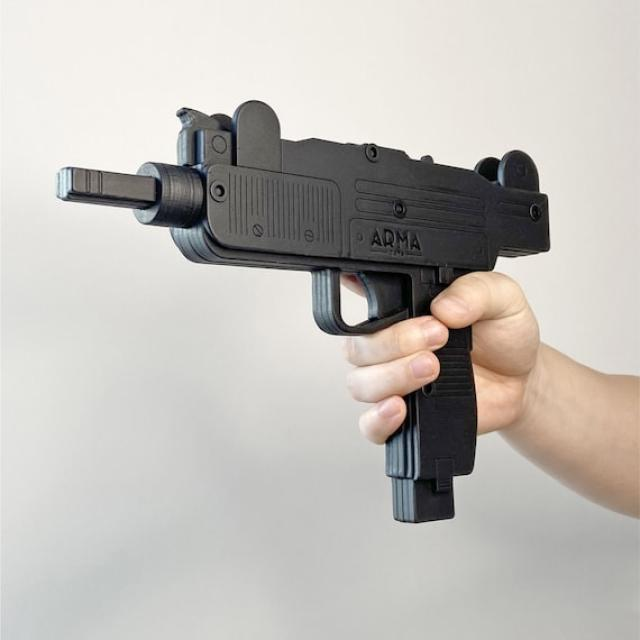SMG: (56, 101, 551, 525)
